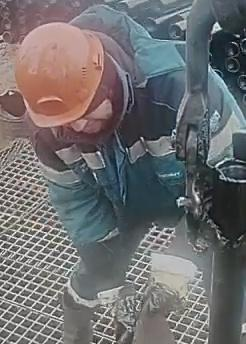gloves: (145, 251, 199, 312), (95, 281, 142, 332)
helmet: (13, 21, 104, 128)
vest: (52, 37, 238, 242)
